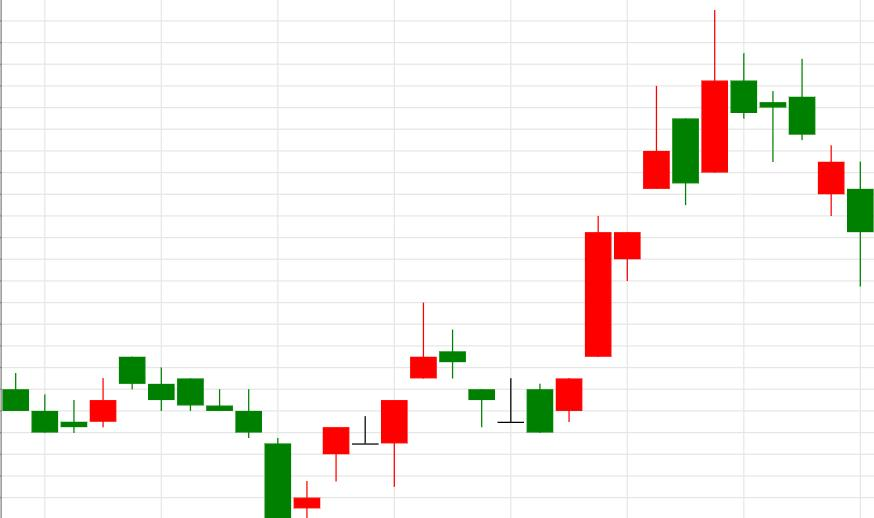shooting_star_fall: (527, 87, 670, 434)
